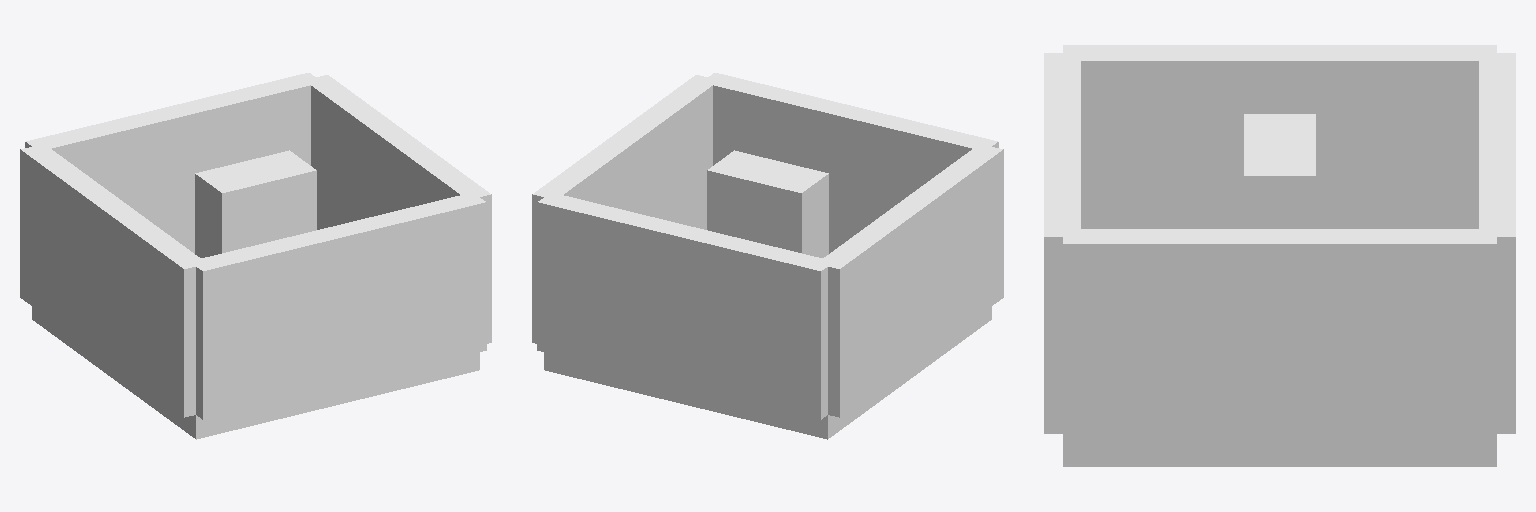
URDF robot description (room):
<?xml version="1.0"?>
<robot name="room">
  <link name="floor_link">
    <visual>
      <geometry>
        <box size="6 6 0.5"/>
      </geometry>
      <origin xyz="0 0 -0.25" rpy="0 0 0"/>
      <material name="white"/>
    </visual>
    <collision>
      <geometry>
        <box size="6 6 0.5"/>
      </geometry>
      <origin xyz="0 0 -0.25" rpy="0 0 0"/>
    </collision>
    <inertial>
      <mass value="48600"/>
      <inertia ixx="146812.5" ixy="0" ixz="0" iyy="146812.5" iyz="0" izz="291600"/>
      <origin xyz="0 0 -0.25" rpy="0 0 0"/>
    </inertial>
    <contact>
      <lateral_friction value="1"/>
    </contact>
  </link>
  <material name="blue">
    <color rgba="1 1 1 1" />
    <texture filename="./tex256.png"/>
  </material>
  <material name="black">
    <color rgba="1 1 1 1" />
    <texture filename="./tex256.png"/>
  </material>
  <material name="white">
    <color rgba="1 1 1 1" />
    <texture filename="./tex256.png"/>
  </material>
  <link name="north_link">
    <visual>
      <geometry>
        <box size="6 0.5 3"/>
      </geometry>
      <origin xyz="0 0 1.5" rpy="0 0 0"/>
      <material name="white"/>
    </visual>
    <collision>
      <geometry>
        <box size="6 0.5 3"/>
      </geometry>
      <origin xyz="0 0 1.5" rpy="0 0 0"/>
    </collision>
    <inertial>
      <mass value="24300"/>
      <inertia ixx="18731.25" ixy="0" ixz="0" iyy="91125" iyz="0" izz="73406.25"/>
      <origin xyz="0 0 1.5" rpy="0 0 0"/>
    </inertial>
  </link>
  <joint name="north_joint" type="fixed">
    <parent link="floor_link"/>
    <child link="north_link"/>
    <origin xyz="0 3 0" rpy="0 0 0"/>
  </joint>
  <link name="east_link">
    <visual>
      <geometry>
        <box size="6 0.5 3"/>
      </geometry>
      <origin xyz="0 0 1.5" rpy="0 0 1.570796327"/>
      <material name="white"/>
    </visual>
    <collision>
      <geometry>
        <box size="6 0.5 3"/>
      </geometry>
      <origin xyz="0 0 1.5" rpy="0 0 1.570796327"/>
    </collision>
    <inertial>
      <mass value="24300"/>
      <inertia ixx="18731.25" ixy="0" ixz="0" iyy="91125" iyz="0" izz="73406.25"/>
      <origin xyz="0 0 1.5" rpy="0 0 1.570796327"/>
    </inertial>
  </link>
  <joint name="east_joint" type="fixed">
    <parent link="floor_link"/>
    <child link="east_link"/>
    <origin xyz="3 0 0" rpy="0 0 0"/>
  </joint>
  <link name="south_link">
    <visual>
      <geometry>
        <box size="6 0.5 3"/>
      </geometry>
      <origin xyz="0 0 1.5" rpy="0 0 0"/>
      <material name="white"/>
    </visual>
    <collision>
      <geometry>
        <box size="6 0.5 3"/>
      </geometry>
      <origin xyz="0 0 1.5" rpy="0 0 0"/>
    </collision>
    <inertial>
      <mass value="24300"/>
      <inertia ixx="18731.25" ixy="0" ixz="0" iyy="91125" iyz="0" izz="73406.25"/>
      <origin xyz="0 0 1.5" rpy="0 0 0"/>
    </inertial>
  </link>
  <joint name="south_joint" type="fixed">
    <parent link="floor_link"/>
    <child link="south_link"/>
    <origin xyz="0 -3 0" rpy="0 0 0"/>
  </joint>
  <link name="west_link">
    <visual>
      <geometry>
        <box size="6 0.5 3"/>
      </geometry>
      <origin xyz="0 0 1.5" rpy="0 0 1.570796327"/>
      <material name="white"/>
    </visual>
    <collision>
      <geometry>
        <box size="6 0.5 3"/>
      </geometry>
      <origin xyz="0 0 1.5" rpy="0 0 1.570796327"/>
    </collision>
    <inertial>
      <mass value="24300"/>
      <inertia ixx="18731.25" ixy="0" ixz="0" iyy="91125" iyz="0" izz="73406.25"/>
      <origin xyz="0 0 1.5" rpy="0 0 1.570796327"/>
    </inertial>
  </link>
  <joint name="west_joint" type="fixed">
    <parent link="floor_link"/>
    <child link="west_link"/>
    <origin xyz="-3 0 0" rpy="0 0 0"/>
  </joint>
  <link name="center_link">
    <visual>
      <geometry>
        <box size="2 1 3"/>
      </geometry>
      <origin xyz="0 0 1.5" rpy="0 0 0"/>
      <material name="white"/>
    </visual>
    <collision>
      <geometry>
        <box size="2 1 3"/>
      </geometry>
      <origin xyz="0 0 1.5" rpy="0 0 0"/>
    </collision>
    <inertial>
      <mass value="16200"/>
      <inertia ixx="13500" ixy="0" ixz="0" iyy="17550" iyz="0" izz="6750"/>
      <origin xyz="0 0 1.5" rpy="0 0 0"/>
    </inertial>
  </link>
  <joint name="center_joint" type="fixed">
    <parent link="floor_link"/>
    <child link="center_link"/>
    <origin xyz="0 0 0" rpy="0 0 0"/>
  </joint>
</robot>

--- What the picture shows (computed from the rendered views, not written in the file) ---
3 views of the same robot in one strip: view 1: azimuth 30°, elevation 25°; view 2: azimuth 150°, elevation 25°; view 3: azimuth 270°, elevation 25° (orthographic).
Robot: room — 6 links, 5 joints (5 fixed); root link floor_link; default pose: all joints at 0.
Links seen in each view (by area): view 1: south_link, west_link, north_link, east_link, center_link, floor_link; view 2: north_link, west_link, south_link, east_link, center_link, floor_link; view 3: east_link, west_link, floor_link, north_link, south_link, center_link.
Link boxes in pixels (bbox=[...]): south_link: bbox=[191, 192, 486, 419]; west_link: bbox=[20, 144, 206, 417]; north_link: bbox=[25, 73, 321, 253]; east_link: bbox=[304, 75, 491, 343]; center_link: bbox=[195, 150, 316, 257]; floor_link: bbox=[32, 307, 479, 439]; north_link: bbox=[537, 192, 831, 419]; west_link: bbox=[817, 145, 1003, 417]; south_link: bbox=[702, 73, 998, 253]; east_link: bbox=[532, 75, 719, 343]; center_link: bbox=[707, 150, 828, 257]; floor_link: bbox=[544, 307, 991, 439]; east_link: bbox=[1063, 229, 1496, 440]; west_link: bbox=[1063, 45, 1496, 228]; floor_link: bbox=[1063, 441, 1496, 466]; north_link: bbox=[1479, 53, 1515, 433]; south_link: bbox=[1044, 53, 1080, 433]; center_link: bbox=[1244, 114, 1315, 228].
Size in the robot's own frame: 6.5 by 6.5 by 3.5 metres.
Geometry: primitives only (box / cylinder / sphere), no mesh files.
